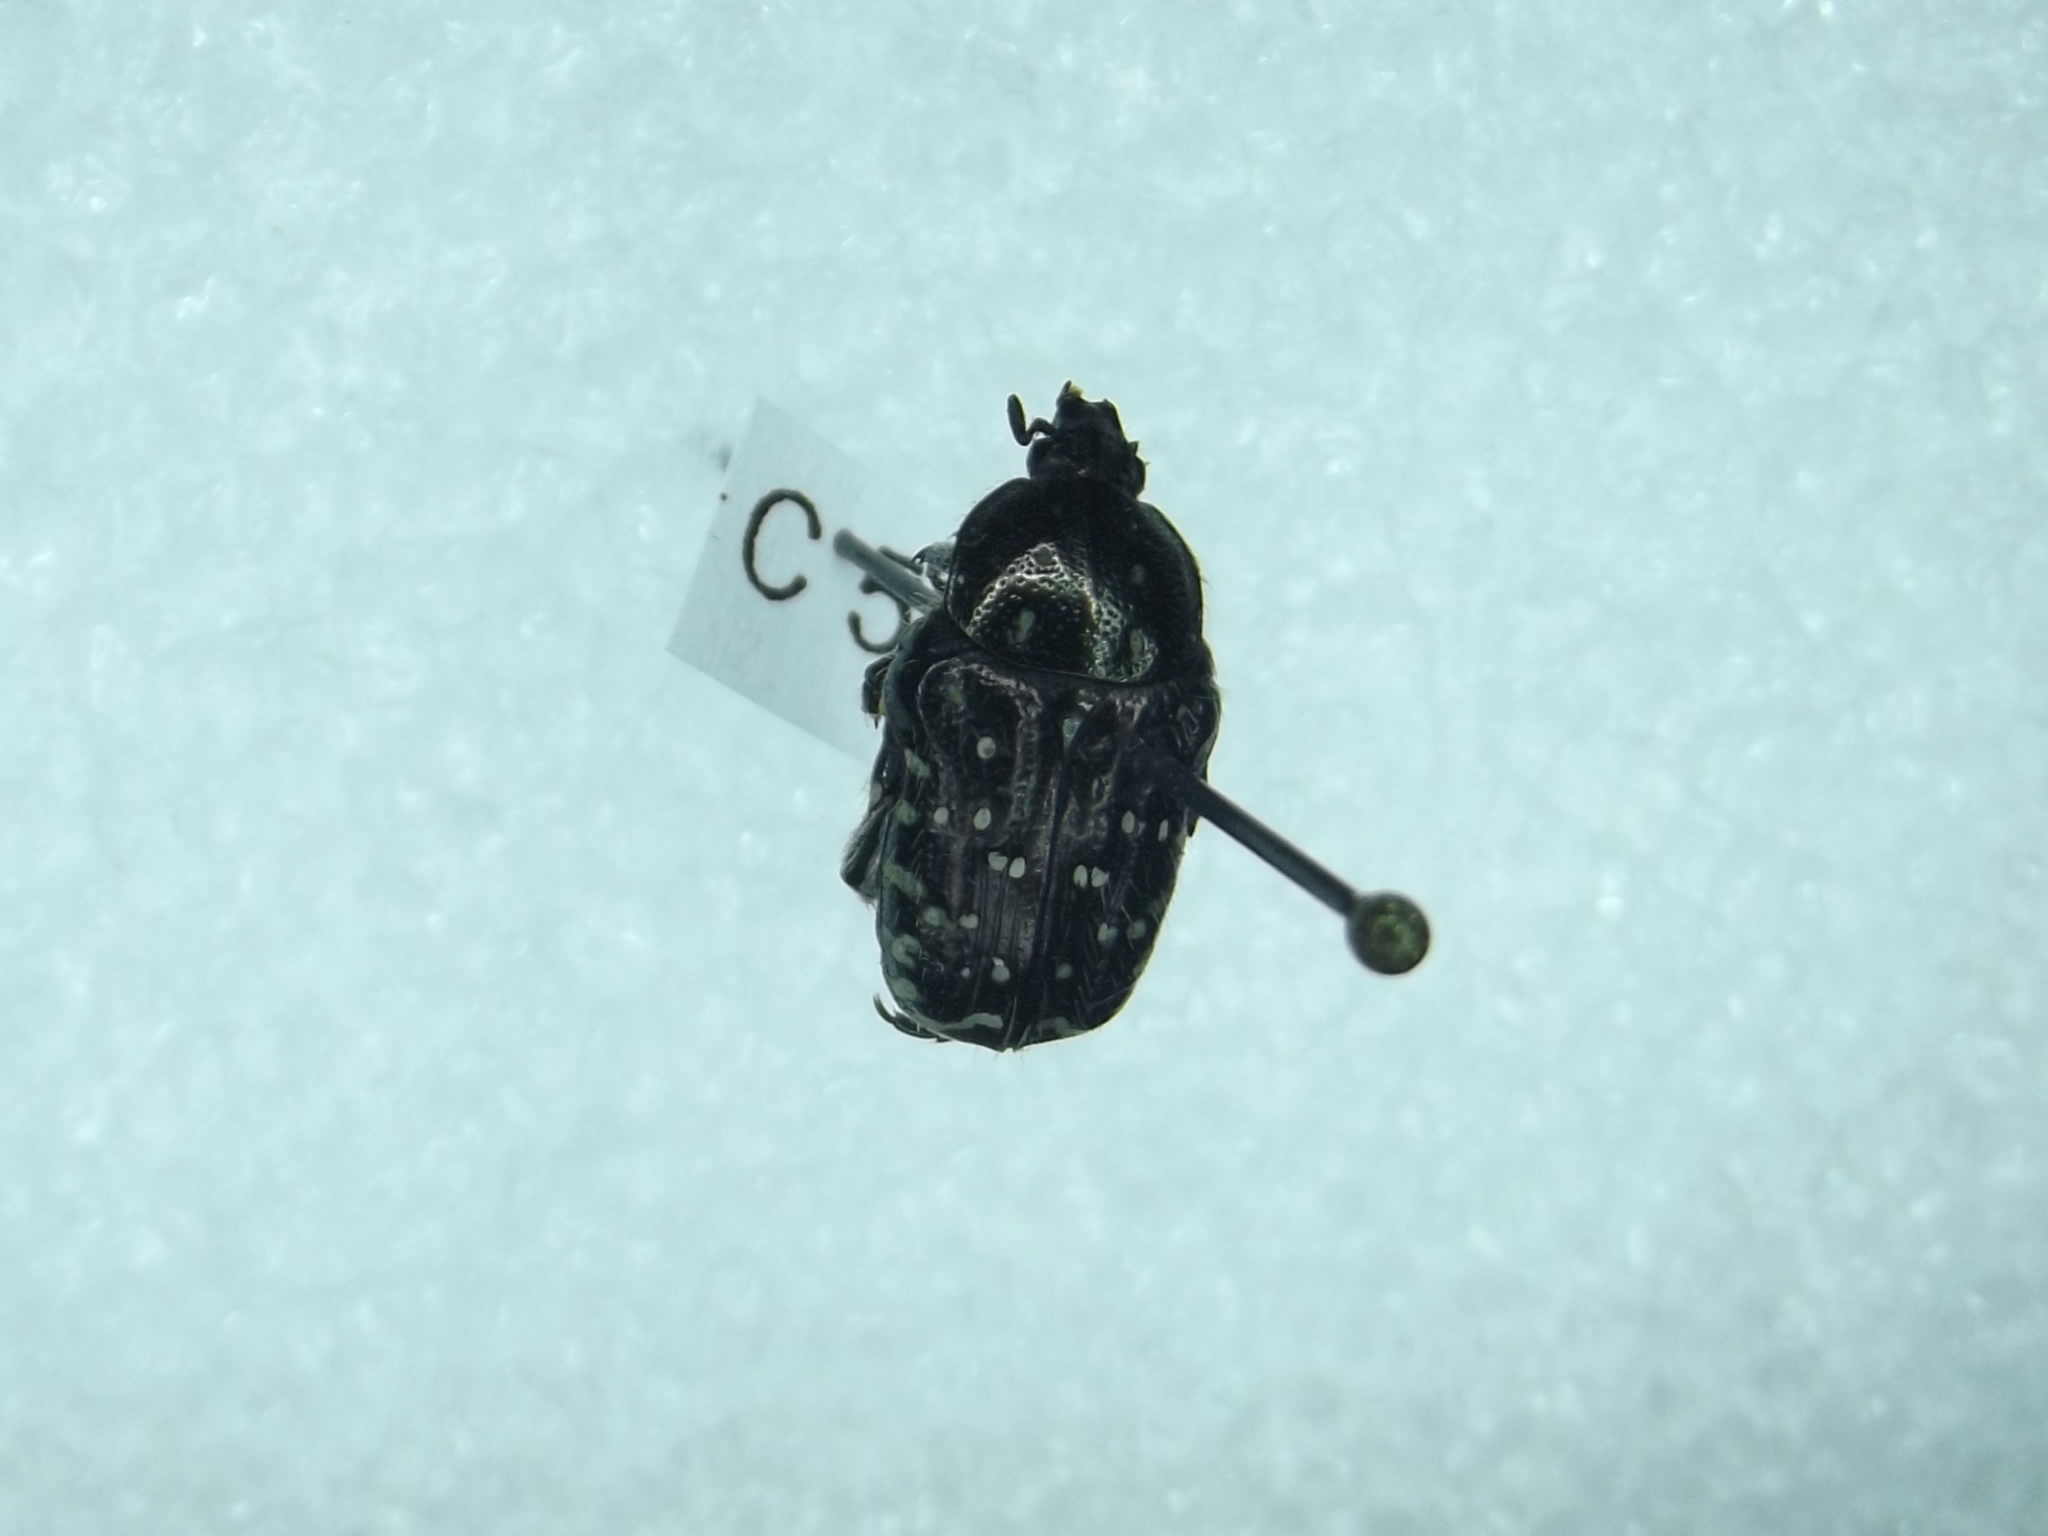Oxythyrea_funesta: (822, 360, 1229, 1078)
